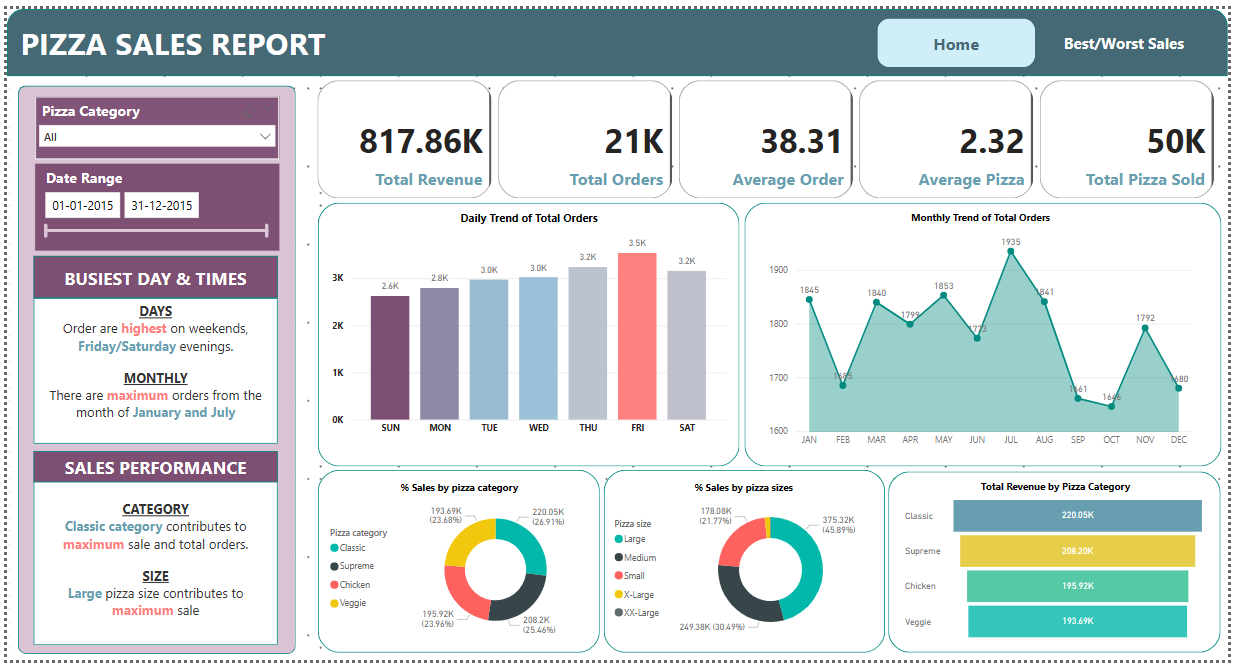

What the dashboard file says about the page in this screenshot:
{"tool":"powerbi","page":{"name":"Home","canvas":[1500,800],"ordinal":0},"visuals":[{"type":"cardVisual","fields":{"Data":["pizza_sales.Total Revenue","pizza_sales.Total Orders","pizza_sales.Average Order Value","pizza_sales.Average Pizza Orders","pizza_sales.Total Pizza Sold"]},"box":[376.2,82.3,1116.2,155.4],"z":0},{"type":"shape","box":[382,238,518,324],"z":1000},{"type":"columnChart","title":"Daily Trend of Total Orders","fields":{"Category":["pizza_sales.OrderDay"],"Y":["pizza_sales.Total Orders"]},"box":[394.3,248.6,495.7,285.7],"z":2000},{"type":"shape","box":[906,238,586,324],"z":3000},{"type":"stackedAreaChart","title":"Monthly Trend of Total Orders","fields":{"Category":["pizza_sales.Order Month"],"Y":["pizza_sales.Total Orders"]},"box":[932,248,530,300],"z":4000},{"type":"shape","box":[1083.3,569.2,408.3,222.5],"z":5000},{"type":"shape","box":[382.7,567.3,346.4,224.5],"z":6000},{"type":"shape","box":[732.7,567.3,345.5,224.5],"z":7000},{"type":"donutChart","title":"% Sales by pizza category","fields":{"Y":["pizza_sales.Total Revenue"],"Category":["pizza_sales.pizza_category"]},"box":[391.8,580,328.2,201.8],"z":8000},{"type":"donutChart","title":"% Sales by pizza sizes","fields":{"Y":["pizza_sales.Total Revenue"],"Category":["pizza_sales.pizza_size"]},"box":[741.8,579.1,328.2,201.8],"z":9000},{"type":"funnel","title":"Total Revenue by Pizza Category","fields":{"Y":["pizza_sales.Total Revenue"],"Category":["pizza_sales.pizza_category"]},"box":[1097.5,578.3,380,203.3],"z":10000},{"type":"shape","box":[0,0,1500,82.9],"z":11000},{"type":"shape","box":[12.9,94.3,341.4,698.6],"z":12000},{"type":"shape","box":[32,355,300,179],"z":13000},{"type":"shape","box":[31.8,580,300,201.8],"z":14000},{"type":"shape","box":[32.7,542.7,300,38.2],"z":15000},{"type":"shape","box":[32,303,300,52],"z":16000},{"type":"textbox","box":[32.5,311.2,300,62.5],"z":17000},{"type":"textbox","box":[31.8,542.7,300,48.2],"z":18000},{"type":"textbox","box":[32,355,300,179],"z":19000},{"type":"textbox","box":[31.8,580,300,201.8],"z":20000},{"type":"slicer","title":"Pizza Category","fields":{"Values":["pizza_sales.pizza_category"]},"box":[34.3,107.9,300,76.4],"z":21000},{"type":"slicer","title":"Pizza Cat","fields":{"Values":["pizza_sales.order_date"]},"box":[34.3,190,300,107.1],"z":22000},{"type":"pageNavigator","box":[1070,12,400,60],"z":23000},{"type":"textbox","box":[12,12,544,70],"z":24000}]}

Visuals, with their boxes in screenshot pixels (x1, y1, x2, y2), scaled from the page's 1500x800 canvas onto the 1234x668 screenshot:
cardVisual - pizza_sales.Total Revenue x pizza_sales.Total Orders: [x1=309, y1=69, x2=1228, y2=198]
shape: [x1=314, y1=199, x2=740, y2=469]
"Daily Trend of Total Orders" columnChart: [x1=324, y1=208, x2=732, y2=446]
shape: [x1=745, y1=199, x2=1227, y2=469]
"Monthly Trend of Total Orders" stackedAreaChart: [x1=767, y1=207, x2=1203, y2=458]
shape: [x1=891, y1=475, x2=1227, y2=661]
shape: [x1=315, y1=474, x2=600, y2=661]
shape: [x1=603, y1=474, x2=887, y2=661]
"% Sales by pizza category" donutChart: [x1=322, y1=484, x2=592, y2=653]
"% Sales by pizza sizes" donutChart: [x1=610, y1=484, x2=880, y2=652]
"Total Revenue by Pizza Category" funnel: [x1=903, y1=483, x2=1215, y2=653]
shape: [x1=0, y1=0, x2=1233, y2=69]
shape: [x1=11, y1=79, x2=291, y2=662]
shape: [x1=26, y1=296, x2=273, y2=446]
shape: [x1=26, y1=484, x2=273, y2=653]
shape: [x1=27, y1=453, x2=274, y2=485]
shape: [x1=26, y1=253, x2=273, y2=296]
textbox: [x1=27, y1=260, x2=274, y2=312]
textbox: [x1=26, y1=453, x2=273, y2=493]
textbox: [x1=26, y1=296, x2=273, y2=446]
textbox: [x1=26, y1=484, x2=273, y2=653]
"Pizza Category" slicer: [x1=28, y1=90, x2=275, y2=154]
"Pizza Cat" slicer: [x1=28, y1=159, x2=275, y2=248]
pageNavigator: [x1=880, y1=10, x2=1209, y2=60]
textbox: [x1=10, y1=10, x2=457, y2=68]
